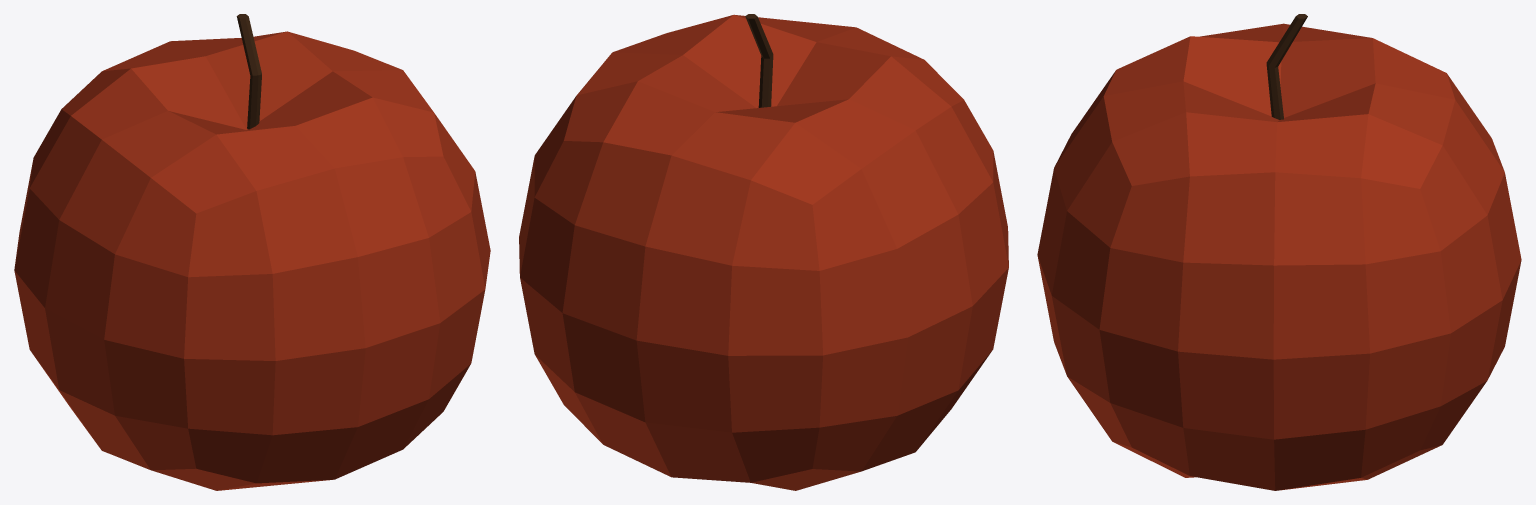
File: apple-with-animation-collectables.fbx
3 renders of one model, left to right at view 1: azimuth 30°, elevation 25°; view 2: azimuth 150°, elevation 25°; view 3: azimuth 270°, elevation 25°, orthographic. The views are drawn at different scales.
Parts seen in each view (by area): view 1: apple; view 2: apple; view 3: apple.
Part boxes in pixels (left/top/right/bottom): apple: left=14, top=14, right=490, bottom=490; apple: left=519, top=14, right=1008, bottom=490; apple: left=1037, top=14, right=1521, bottom=490.
Size of the model in its own units: 168 by 163 by 168.
